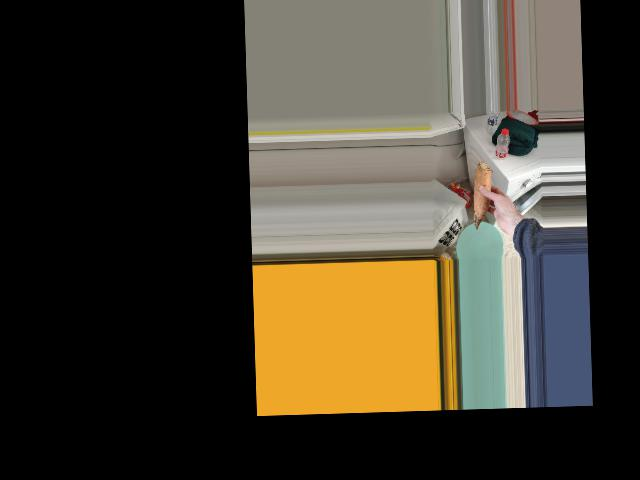sweet_potato: (474, 158, 495, 225)
